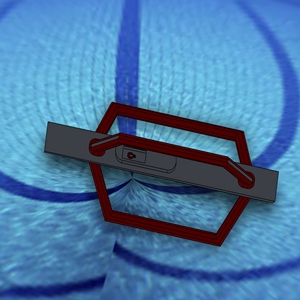submarine: (34, 69, 290, 271)
